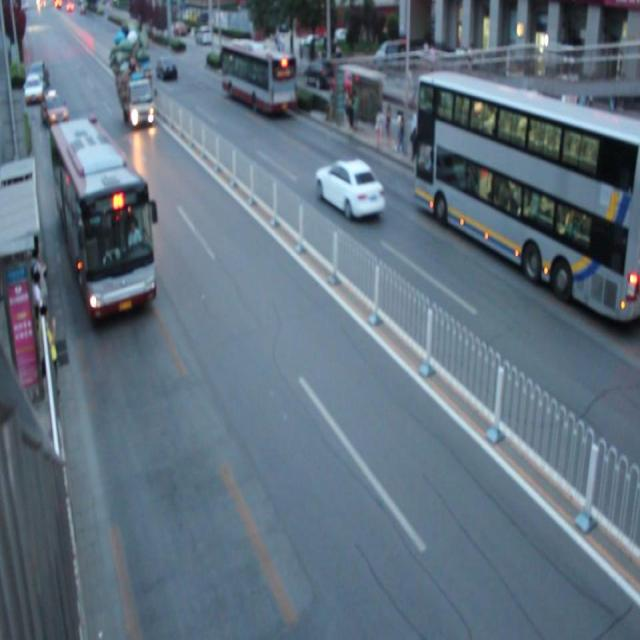bus: (111, 24, 155, 129)
car: (315, 156, 384, 220), (41, 89, 70, 131)
van: (416, 74, 640, 318), (49, 119, 156, 320), (220, 38, 296, 116)
